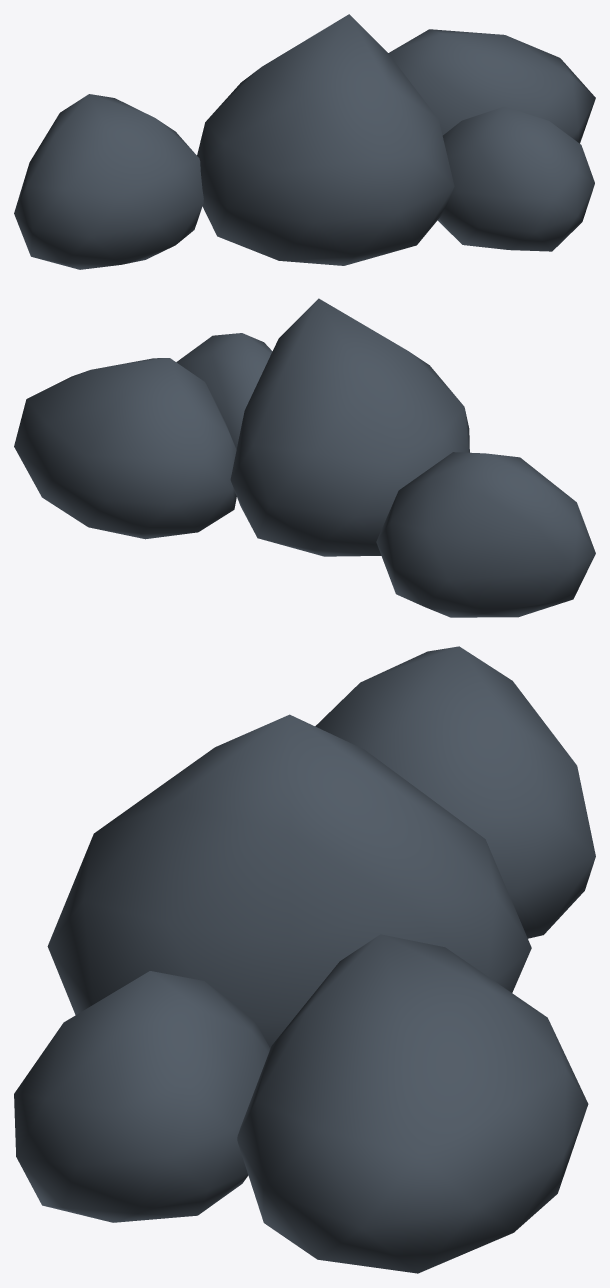
File: Stone_03.fbx
The picture shows the model from 3 angles, top to bottom: view 1: azimuth 30°, elevation 25°; view 2: azimuth 150°, elevation 25°; view 3: azimuth 270°, elevation 25°; orthographic projection. The views are drawn at different scales.
Parts seen in each view (by area): view 1: Stone_03; view 2: Stone_03; view 3: Stone_03.
Part boxes in pixels (x1,y1,x2,y2): Stone_03: [14, 14, 595, 269]; Stone_03: [14, 298, 595, 617]; Stone_03: [14, 646, 595, 1273].
Bounding box in the file's own units: 334 × 172 × 125.
